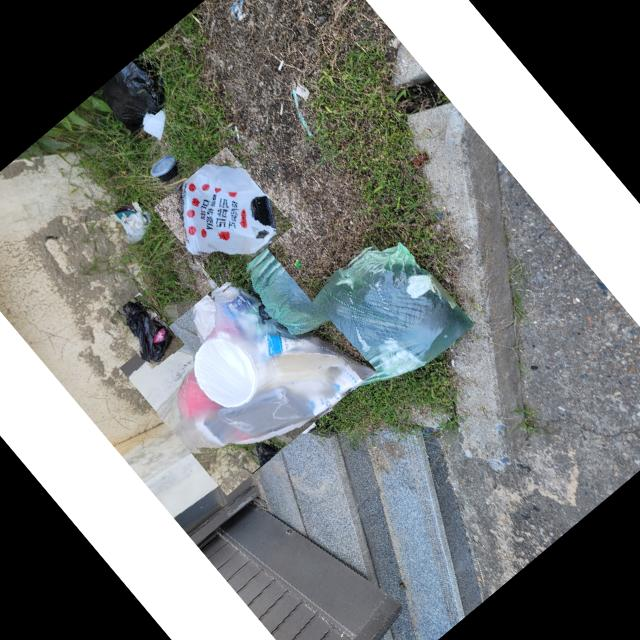general_trashbag: (290, 242, 474, 387)
other_trashbag: (178, 284, 371, 450), (182, 163, 276, 255), (101, 63, 164, 130), (123, 301, 172, 361)
